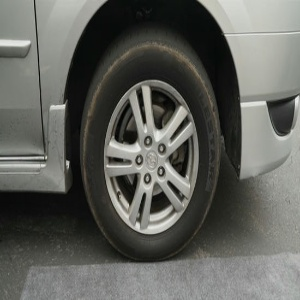train: (77, 27, 220, 261)
